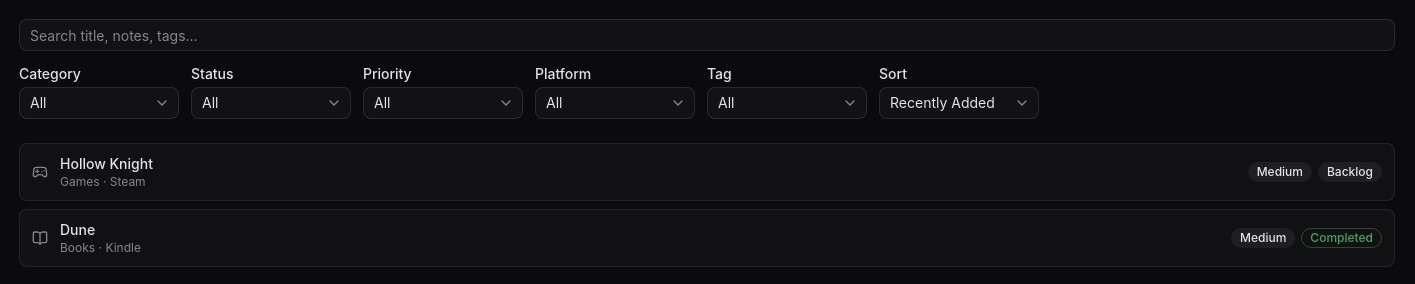
DiscoveryPage › shows an empty state when nothing matches
The width and height of the screenshot is (1415, 284).
expect the text "Hollow Knight" is shown: met, box top-left (60, 155), bottom-right (153, 172)
Type "zzz" into the field labelled "Search".
click(707, 35); type("zzz")  # box top-left (19, 19), bottom-right (1395, 51)
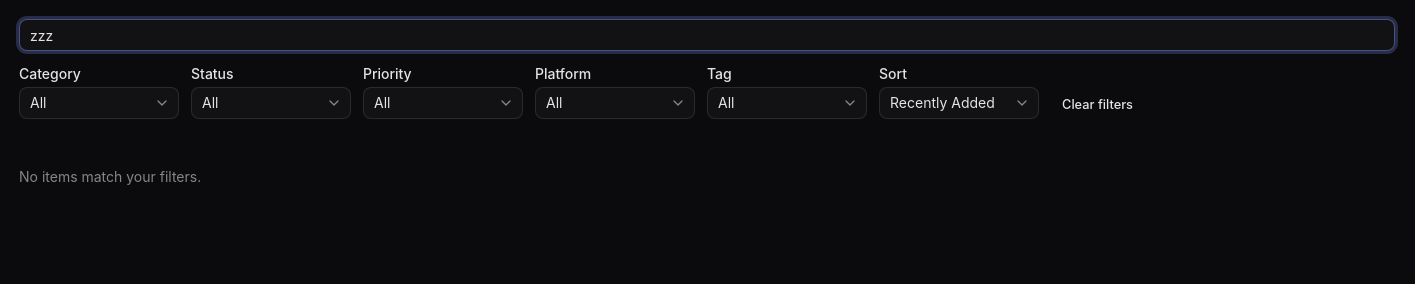
expect the text "No items match your filters." is shown: met, box top-left (19, 167), bottom-right (201, 187)
